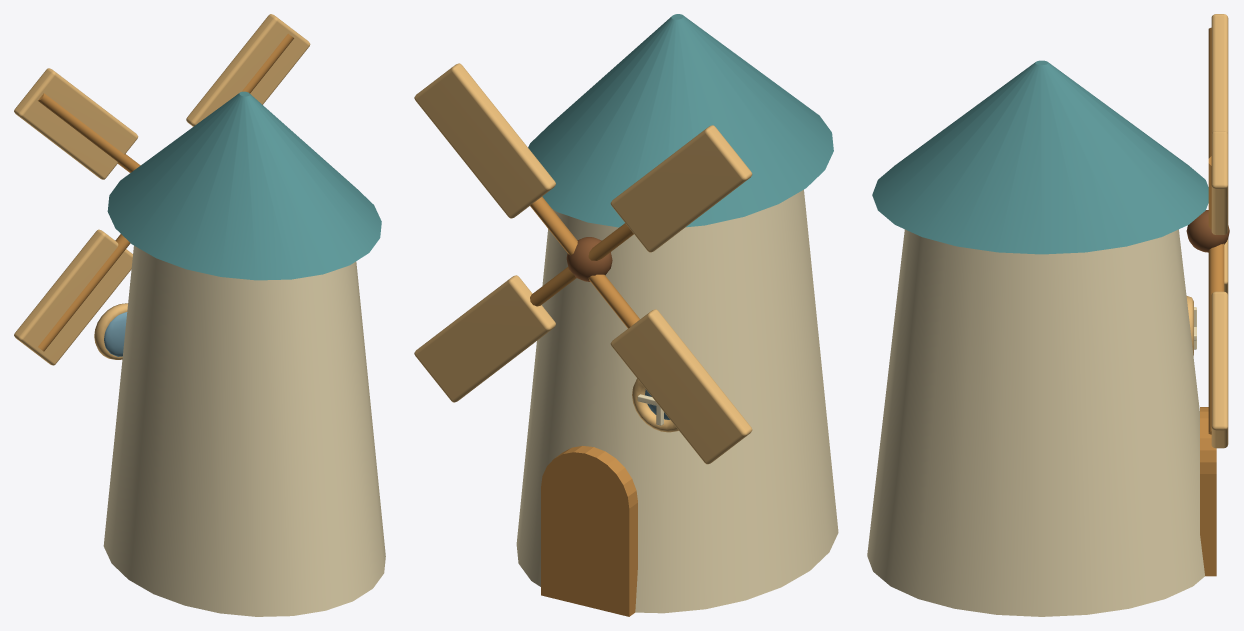
Rendered from mill.fbx.
3 views of the same model, side by side, from view 1: azimuth 30°, elevation 25°; view 2: azimuth 150°, elevation 25°; view 3: azimuth 270°, elevation 25° (orthographic). The views are drawn at different scales.
Parts seen in each view (by area): view 1: mill; view 2: mill; view 3: mill.
Boxes of the visible parts, left/top/right/bottom form: mill: left=14, top=14, right=385, bottom=616; mill: left=414, top=14, right=838, bottom=616; mill: left=867, top=14, right=1229, bottom=616.
Size of the model in its own units: 3 by 4.5 by 3.
Materials: 1 (1 with a texture image).
